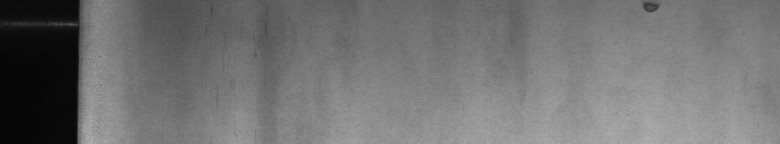fi: (637, 4, 664, 20)
